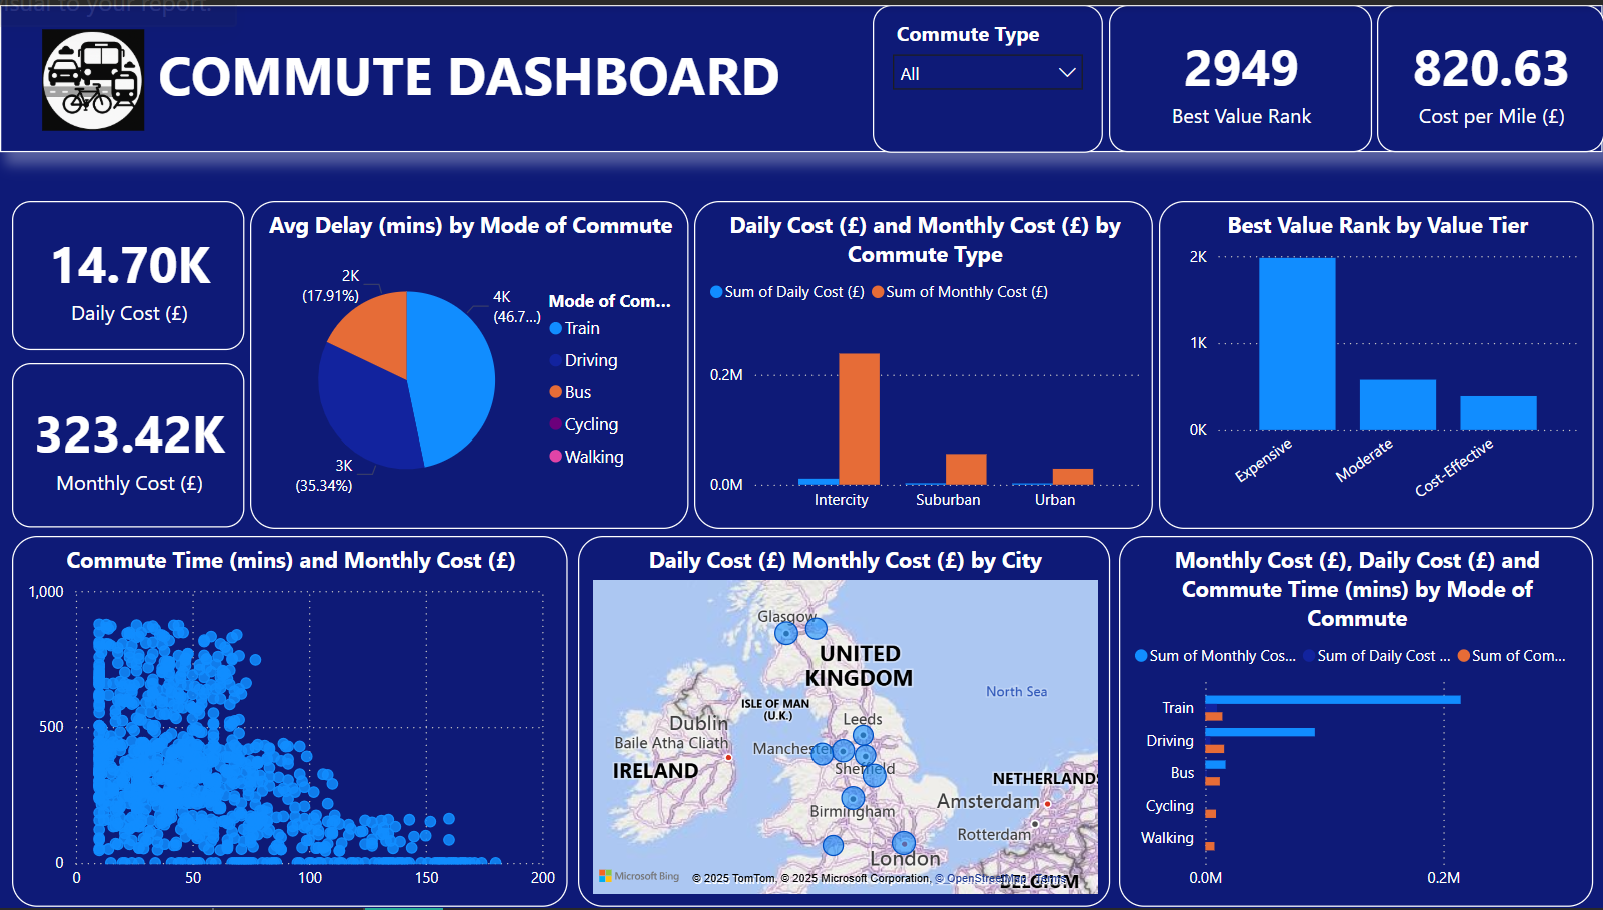

The dashboard page shown, as its layout file describes it:
{"tool":"powerbi","page":{"name":"Page 1","canvas":[1280,720],"ordinal":0},"visuals":[{"type":"clusteredBarChart","title":"Monthly Cost (£), Daily Cost (£) and Commute Time (mins) by Mode of Commute","fields":{"Y":["Sum(UK_Commute_Costs_MockDataset.Monthly Cost (£))","Sum(UK_Commute_Costs_MockDataset.Daily Cost (£))","Sum(UK_Commute_Costs_MockDataset.Commute Time (mins))"],"Category":["UK_Commute_Costs_MockDataset.Mode of Commute"]},"box":[892.9,423.8,378.4,296.2],"z":0},{"type":"scatterChart","fields":{"X":["UK_Commute_Costs_MockDataset.Commute Time (mins)"],"Y":["UK_Commute_Costs_MockDataset.Monthly Cost (£)"]},"box":[9.9,423.8,443.6,296.2],"z":1000},{"type":"map","title":"Daily Cost (£) Monthly Cost (£) by City","fields":{"Category":["UK_Commute_Costs_MockDataset.City"],"Size":["Sum(UK_Commute_Costs_MockDataset.Daily Cost (£))"]},"box":[460.6,423.8,423.8,296.2],"z":2000},{"type":"columnChart","title":"Best Value Rank by Value Tier","fields":{"Category":["UK_Commute_Costs_MockDataset.Value Tier"],"Y":["Sum(UK_Commute_Costs_MockDataset.Best Value Rank)"]},"box":[924.1,155.9,347.2,260.8],"z":3000},{"type":"clusteredColumnChart","title":"Daily Cost (£) and Monthly Cost (£) by Commute Type","fields":{"Category":["UK_Commute_Costs_MockDataset.Commute Type"],"Y":["Sum(UK_Commute_Costs_MockDataset.Daily Cost (£))","Sum(UK_Commute_Costs_MockDataset.Monthly Cost (£))"]},"box":[554.2,155.9,365.7,260.8],"z":4000},{"type":"pieChart","title":"Avg Delay (mins) by Mode of Commute","fields":{"Category":["UK_Commute_Costs_MockDataset.Mode of Commute"],"Y":["Sum(UK_Commute_Costs_MockDataset.Avg Delay (mins))"]},"box":[199.8,155.9,350.1,260.8],"z":5000},{"type":"shape","box":[0,0,1279.8,117.6],"z":6000},{"type":"card","fields":{"Values":["Sum(UK_Commute_Costs_MockDataset.Monthly Cost (£))"]},"box":[9.9,286.3,185.7,130.4],"z":7000},{"type":"card","fields":{"Values":["Sum(UK_Commute_Costs_MockDataset.Daily Cost (£))"]},"box":[9.9,155.9,185.7,119.1],"z":8000},{"type":"card","fields":{"Values":["Sum(UK_Commute_Costs_MockDataset.Cost per Mile (£))"]},"box":[1098.4,0,181.4,117.6],"z":9000},{"type":"card","fields":{"Values":["Sum(UK_Commute_Costs_MockDataset.Best Value Rank)"]},"box":[884.4,0,209.8,117.6],"z":10000},{"type":"slicer","fields":{"Values":["UK_Commute_Costs_MockDataset.Commute Type","UK_Commute_Costs_MockDataset.Mode of Commute"]},"box":[696.1,0,183.6,118.1],"z":11000},{"type":"textbox","box":[121.3,20.8,550.8,84.6],"z":13000},{"type":"image","box":[27.1,14.4,94.2,91],"z":13001}]}

Visuals, with their boxes in screenshot pixels (x1, y1, x2, y2), scaled from the page's 1280x720 canvas onto the 1603x910 screenshot:
"Monthly Cost (£), Daily Cost (£) and Commute Time (mins) by Mode of Commute" clusteredBarChart: 1118:536:1592:909
scatterChart - UK_Commute_Costs_MockDataset.Commute Time (mins) x UK_Commute_Costs_MockDataset.Monthly Cost (£): 12:536:568:909
"Daily Cost (£) Monthly Cost (£) by City" map: 577:536:1108:909
"Best Value Rank by Value Tier" columnChart: 1157:197:1592:527
"Daily Cost (£) and Monthly Cost (£) by Commute Type" clusteredColumnChart: 694:197:1152:527
"Avg Delay (mins) by Mode of Commute" pieChart: 250:197:689:527
shape: 0:0:1602:149
card - Sum(UK_Commute_Costs_MockDataset.Monthly Cost (£)): 12:362:245:527
card - Sum(UK_Commute_Costs_MockDataset.Daily Cost (£)): 12:197:245:348
card - Sum(UK_Commute_Costs_MockDataset.Cost per Mile (£)): 1376:0:1602:149
card - Sum(UK_Commute_Costs_MockDataset.Best Value Rank): 1108:0:1370:149
slicer - UK_Commute_Costs_MockDataset.Commute Type x UK_Commute_Costs_MockDataset.Mode of Commute: 872:0:1102:149
textbox: 152:26:842:133
image: 34:18:152:133
